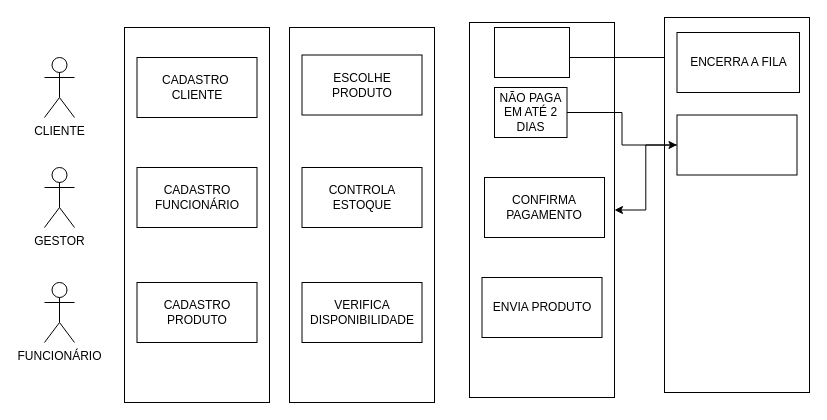
The diagram is 827 pixels wide and 420 high, and some of its shapes have lost their labels. The centre of each missing label's shape, as x and y in pixels:
CONTINUA A FILA: (x=736, y=144)
PAGA EM ATÉ 2 DIAS: (x=532, y=52)
